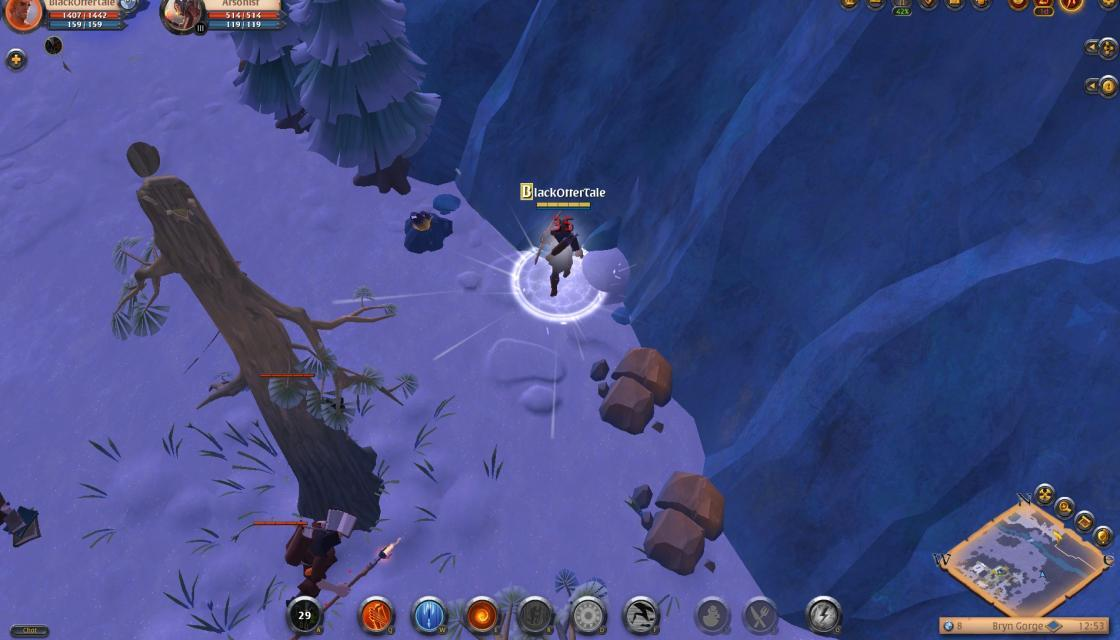copperore: (398, 204, 461, 253)
limestone: (638, 468, 724, 572), (596, 339, 674, 431)
